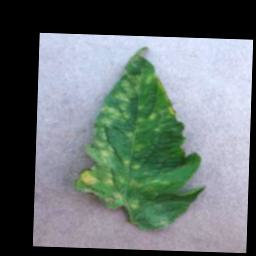Leaf_Mold: (73, 164, 100, 191)
